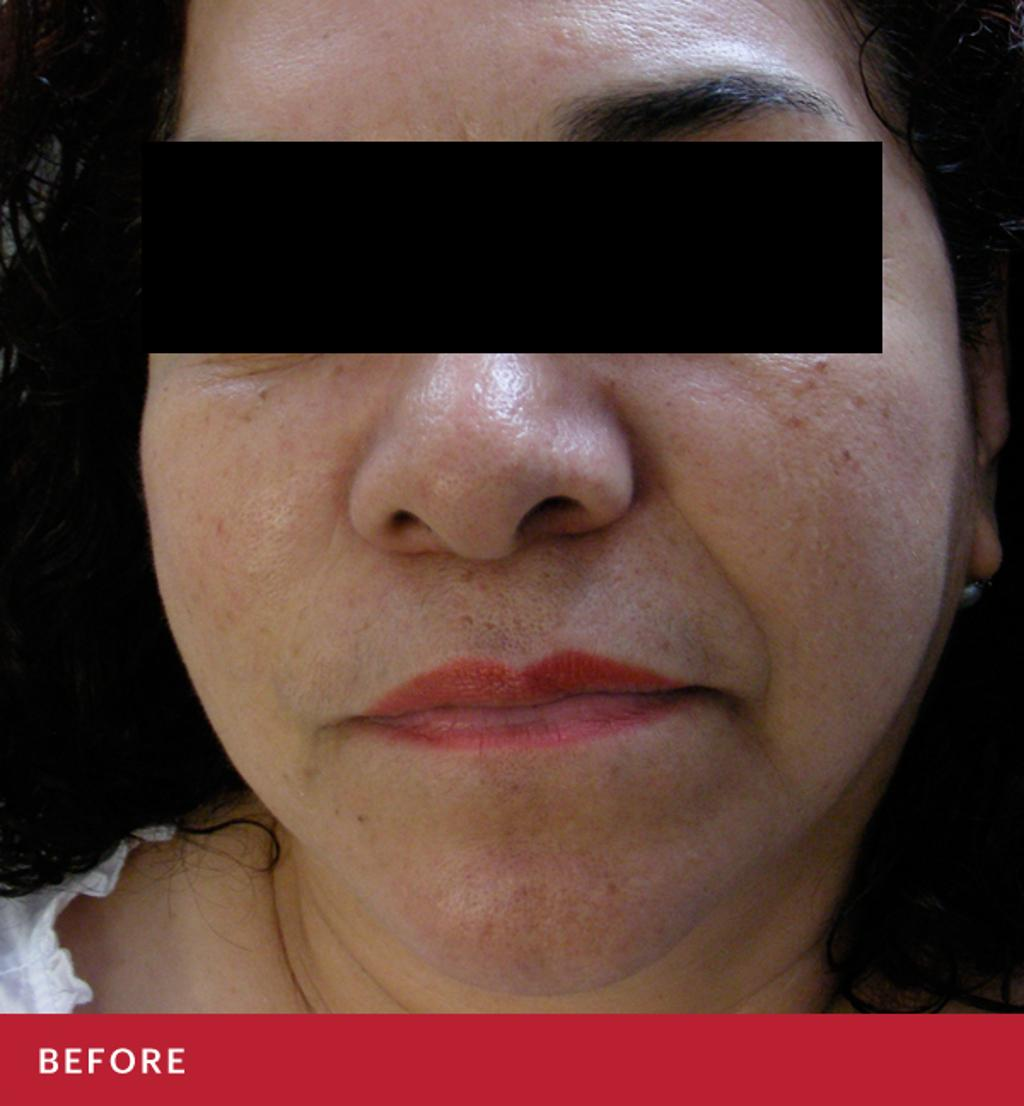face: (138, 2, 968, 994)
